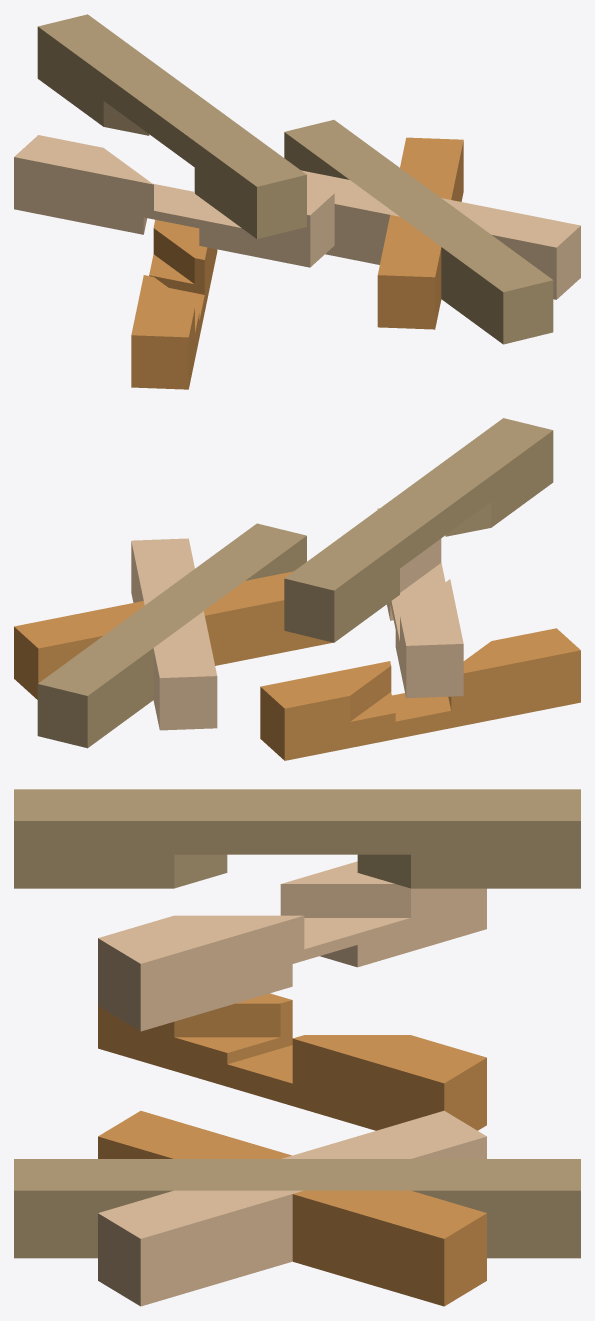
3 renders of one model, top to bottom at view 1: azimuth 30°, elevation 25°; view 2: azimuth 150°, elevation 25°; view 3: azimuth 270°, elevation 25°, orthographic. The views are drawn at different scales.
Size of the model in its own units: 27.01 by 12.5 by 22.8.
